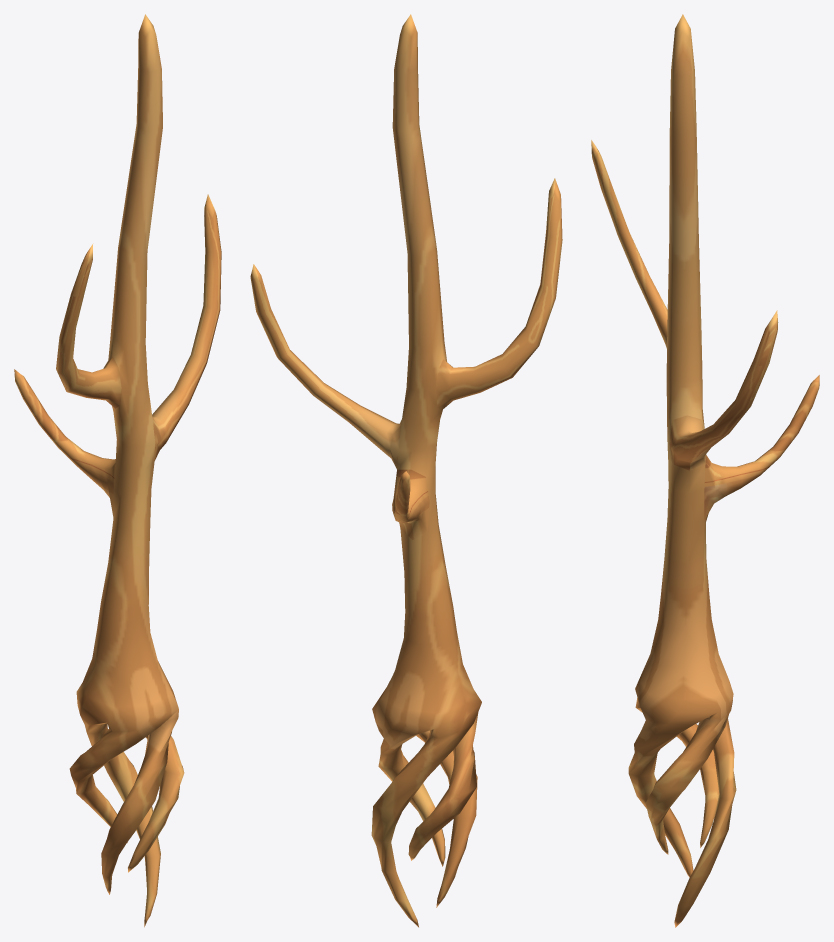
The model's file is Tree_Floating_01.fbx.
The picture shows the model from 3 angles, left to right: view 1: azimuth 30°, elevation 25°; view 2: azimuth 150°, elevation 25°; view 3: azimuth 270°, elevation 25°; orthographic projection.
Parts seen in each view (by area): view 1: Cube.668; view 2: Cube.668; view 3: Cube.668.
Boxes of the visible parts, x1,y1,x2,y2 form: Cube.668: (14, 14, 221, 927); Cube.668: (250, 14, 562, 927); Cube.668: (591, 14, 819, 927).
Size of the model in its own units: 427 by 1624 by 367.
